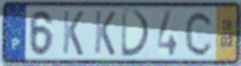4: (156, 8, 179, 59)
6: (28, 9, 56, 58)
C: (184, 9, 215, 58)
D: (120, 8, 153, 59)
K: (61, 9, 86, 58), (93, 9, 117, 58)
